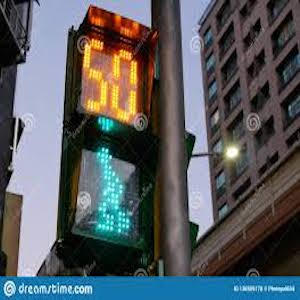green: (86, 146, 140, 236)
